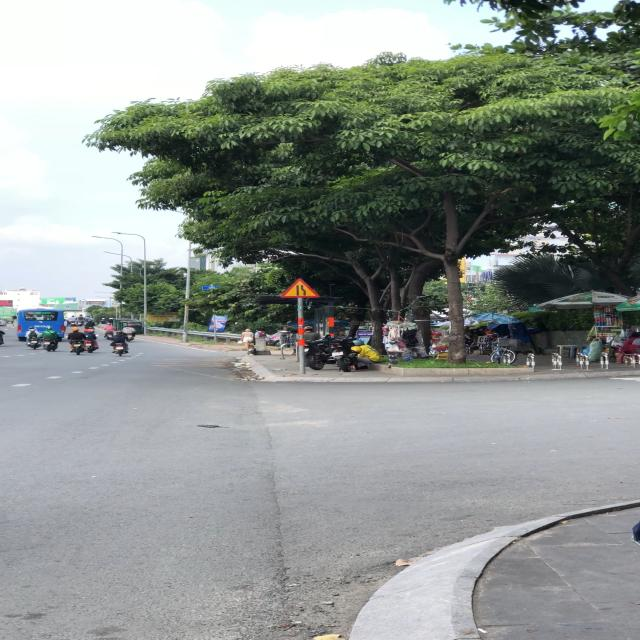Bien bao duong bi thu hep: (279, 277, 323, 299)
